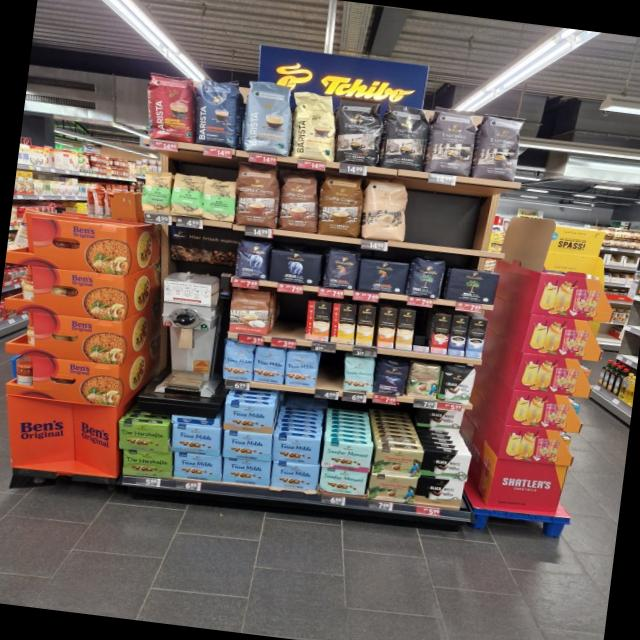AB Bohne: (233, 237, 271, 281)
AB Gemahlen: (266, 248, 323, 288)
Athiopien Bohne: (138, 168, 174, 214)
Athiopien Gemahlen: (200, 178, 238, 224), (170, 171, 207, 218)
BM Bohne: (407, 254, 447, 300)
BM Gemahlen: (444, 267, 500, 306)
BW Bohne: (439, 364, 476, 406)
BW Gemahlen: (422, 448, 472, 482), (415, 476, 465, 507)
Barista CB: (286, 88, 342, 162)
Barista CC: (240, 76, 298, 156)
Barista Espresso: (190, 74, 246, 148)
Barista Kolumbien: (141, 72, 200, 143)
C Fino Bohne: (374, 358, 409, 398)
CC Mild: (359, 178, 414, 244)
CC Vollmundig: (226, 288, 273, 336)
CC Vollmundig 36 Pads: (314, 170, 367, 238), (232, 160, 284, 228), (274, 168, 322, 232)
Colombia BB Bohne: (406, 362, 442, 399)
Colombia BB Gemahlen: (372, 445, 423, 478), (368, 472, 418, 504)
Empty Shelf: (408, 182, 512, 255), (268, 292, 308, 340), (317, 353, 346, 391), (413, 310, 433, 346)
Espresso Kraftig: (331, 94, 388, 166)
Espresso M Art: (424, 103, 480, 178), (473, 109, 524, 181)
Espresso S Art: (382, 100, 429, 172)
FM Bohne: (282, 349, 320, 389), (252, 345, 287, 385), (222, 341, 256, 382)
FM Gemahlen: (222, 400, 276, 435), (170, 422, 222, 457), (219, 429, 274, 462), (171, 450, 224, 482), (270, 433, 322, 465), (270, 459, 320, 492), (220, 456, 272, 486)
Herzhatfe Mundig: (114, 419, 172, 454), (120, 448, 174, 480)
LG Bohne: (322, 248, 360, 292)
LG Gemahlen: (356, 258, 409, 296)
SM Bohne: (340, 354, 377, 394)
SM Gemahlen: (321, 438, 373, 472), (317, 466, 368, 496)
Simo CCMild: (330, 302, 358, 343)
Simo CCMild bigpack: (354, 305, 376, 346)
Simo CCVollmundig: (303, 299, 332, 340)
Simo CCVollmundig bigpack: (376, 306, 398, 348)
Simo Decaff: (394, 308, 416, 350)
Simo Es Brazil: (430, 314, 450, 354)
Simo Es Kraft: (447, 314, 469, 356)
Simo Es Vanilla: (465, 317, 487, 359)
